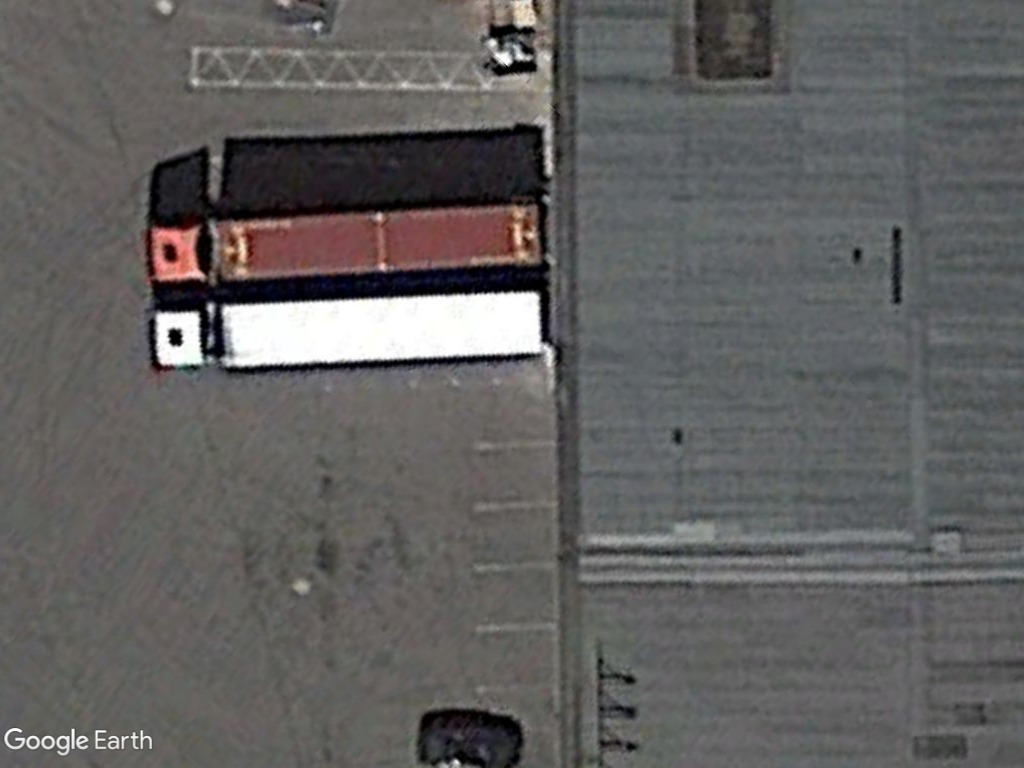longvehicle: (145, 195, 553, 295), (140, 280, 547, 380)
